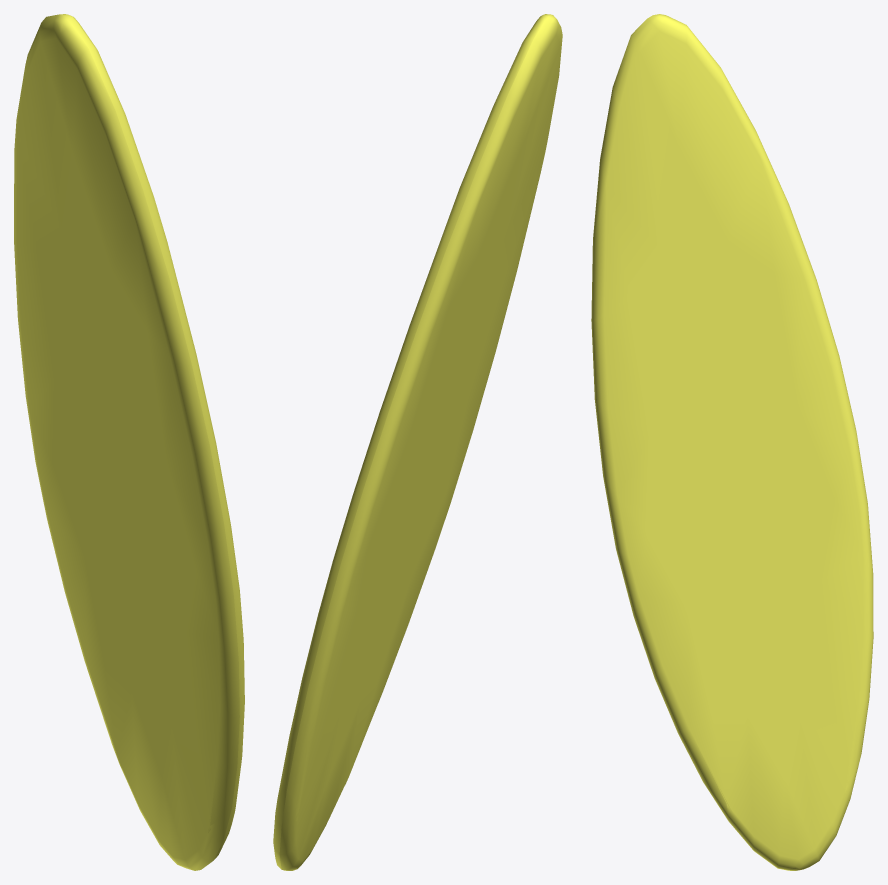
The model's file is fallLeaf_2.glb.
The picture shows the model from 3 angles, left to right: view 1: azimuth 30°, elevation 25°; view 2: azimuth 150°, elevation 25°; view 3: azimuth 270°, elevation 25°; orthographic projection. The views are drawn at different scales.
Parts seen in each view (by area): view 1: Leaf_DarkGreen_Long.370; view 2: Leaf_DarkGreen_Long.370; view 3: Leaf_DarkGreen_Long.370.
Boxes of the visible parts, x1,y1,x2,y2 form: Leaf_DarkGreen_Long.370: (14,14,244,870); Leaf_DarkGreen_Long.370: (273,14,562,870); Leaf_DarkGreen_Long.370: (591,14,873,870).
Size of the model in its own units: 0.5443 by 2.2 by 0.7261.
